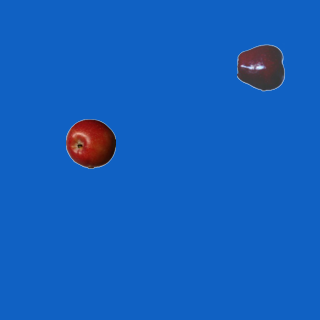Apple Braeburn: (65, 118, 115, 168)
Apple Red Delicious: (236, 42, 286, 92)
